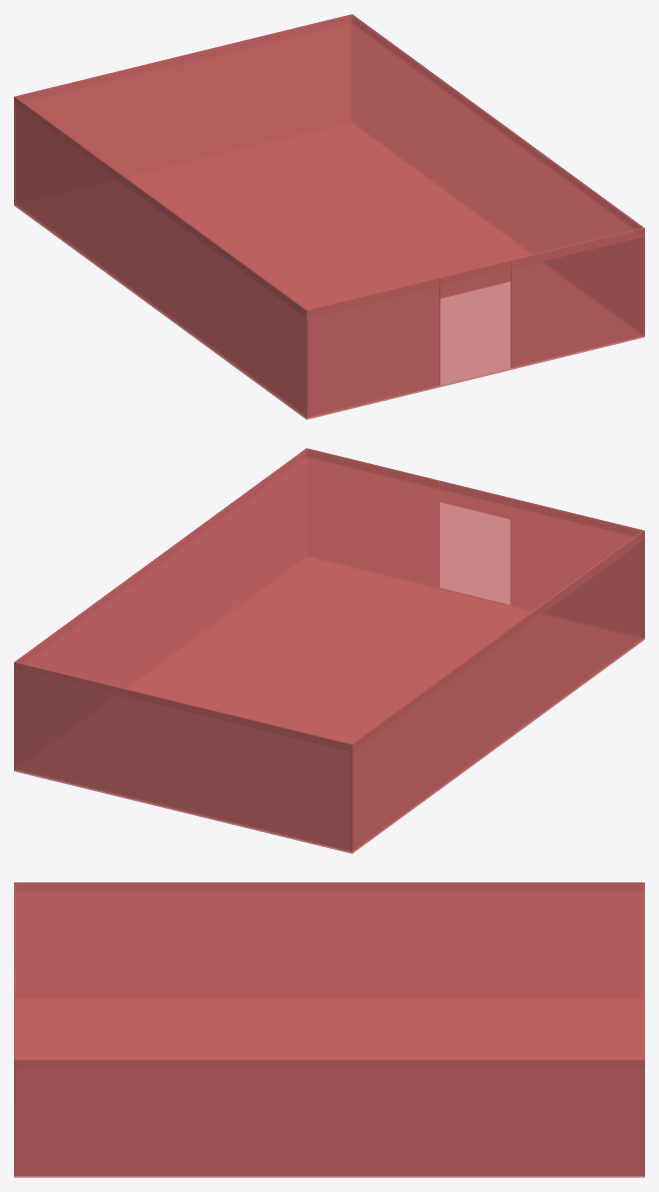
Rendered from SM_Bld_Bank_01_Collision.fbx.
The picture shows the model from 3 angles, top to bottom: view 1: azimuth 30°, elevation 25°; view 2: azimuth 150°, elevation 25°; view 3: azimuth 270°, elevation 25°; orthographic projection. The views are drawn at different scales.
Parts seen in each view (by area): view 1: SM_Bld_Bank_01_Collision; view 2: SM_Bld_Bank_01_Collision; view 3: SM_Bld_Bank_01_Collision.
Boxes of the visible parts, x1,y1,x2,y2 form: SM_Bld_Bank_01_Collision: [14, 14, 644, 419]; SM_Bld_Bank_01_Collision: [14, 448, 644, 853]; SM_Bld_Bank_01_Collision: [14, 882, 644, 1177].
Size of the model in its own units: 1004 by 309 by 1504.
